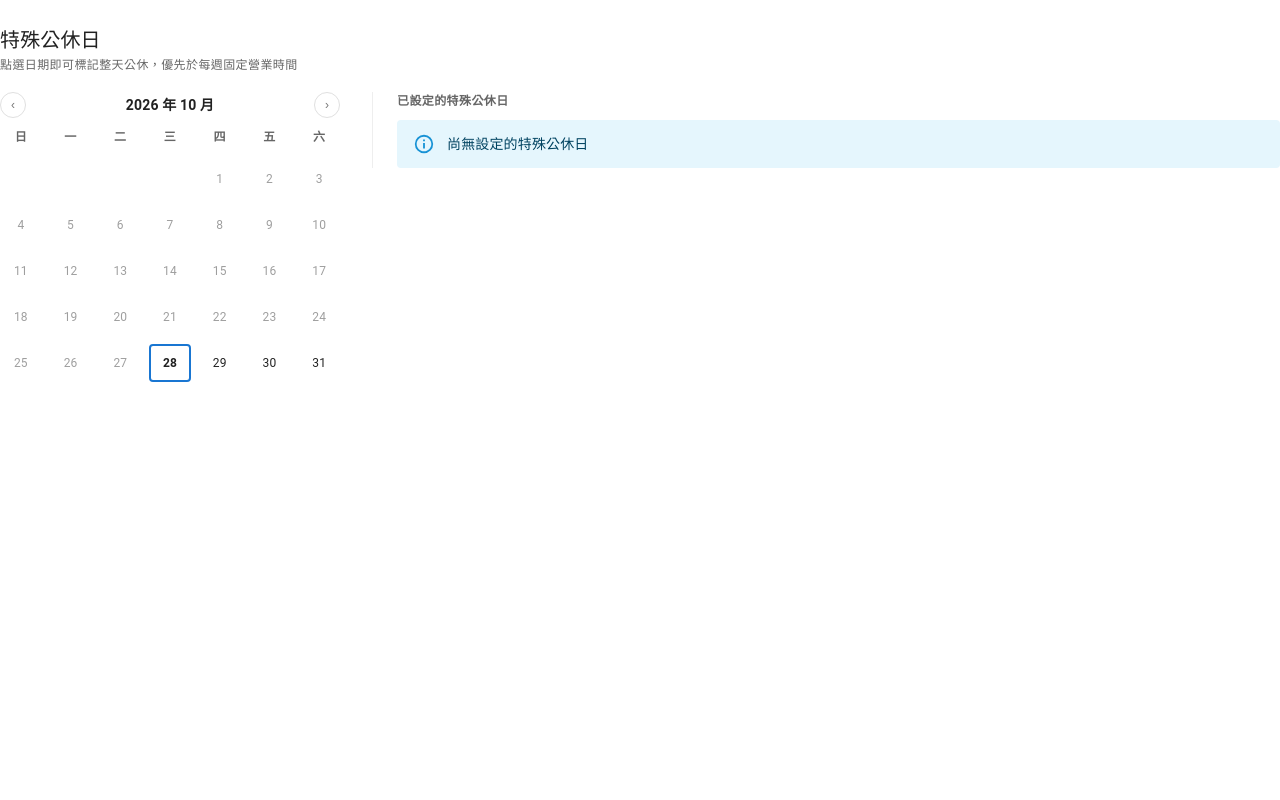
ClosedDatesSection › 點選有受影響預約的日期顯示警告，確認後才新增；取消不寫入
Check: the text "尚無設定的特殊公休日" is shown, box 447,136 -> 588,152
Click the button named "下個月" at (327,105), box 314,92 -> 340,118
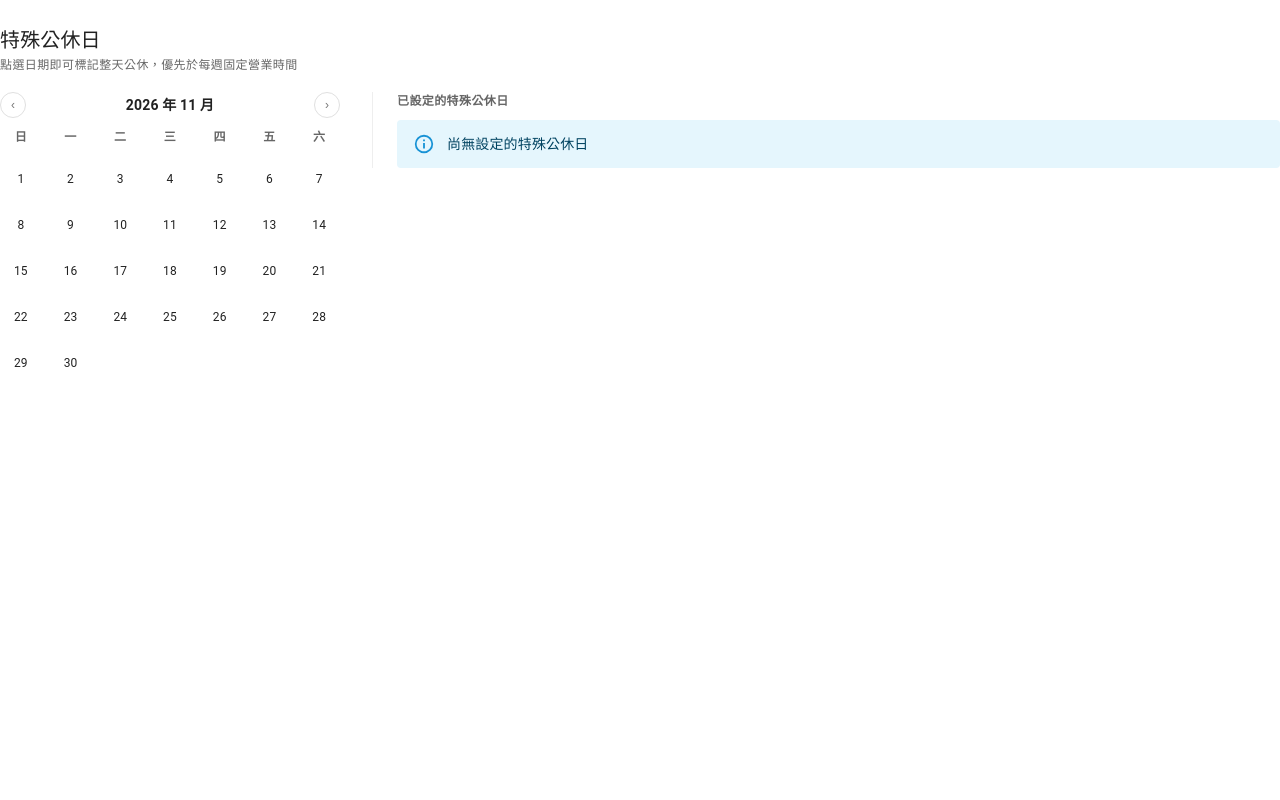
Click the button "20" at (269,271), box 249,252 -> 290,290
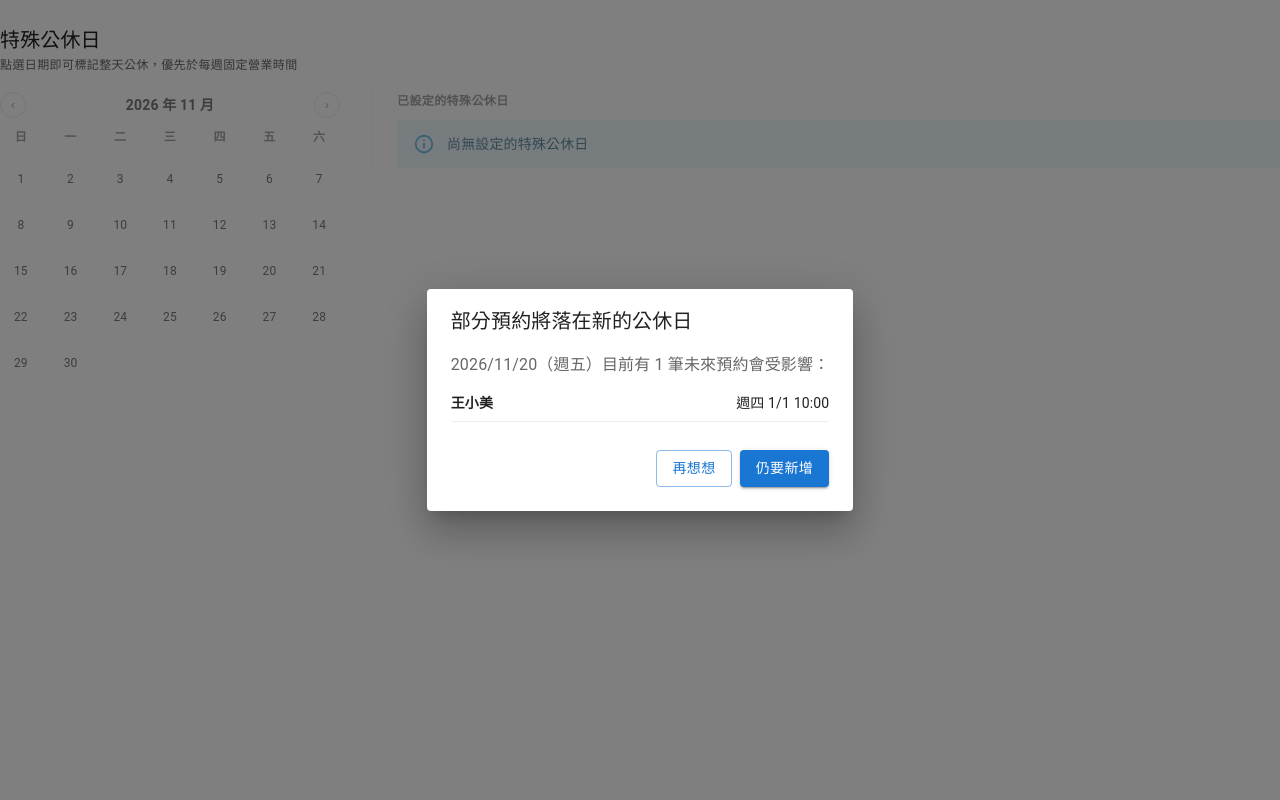
Check: the heading "部分預約將落在新的公休日" is shown, box 451,309 -> 692,333
Check: the text "王小美" is shown, box 451,393 -> 493,413
Click the button "仍要新增" at (784,469), box 740,450 -> 829,487
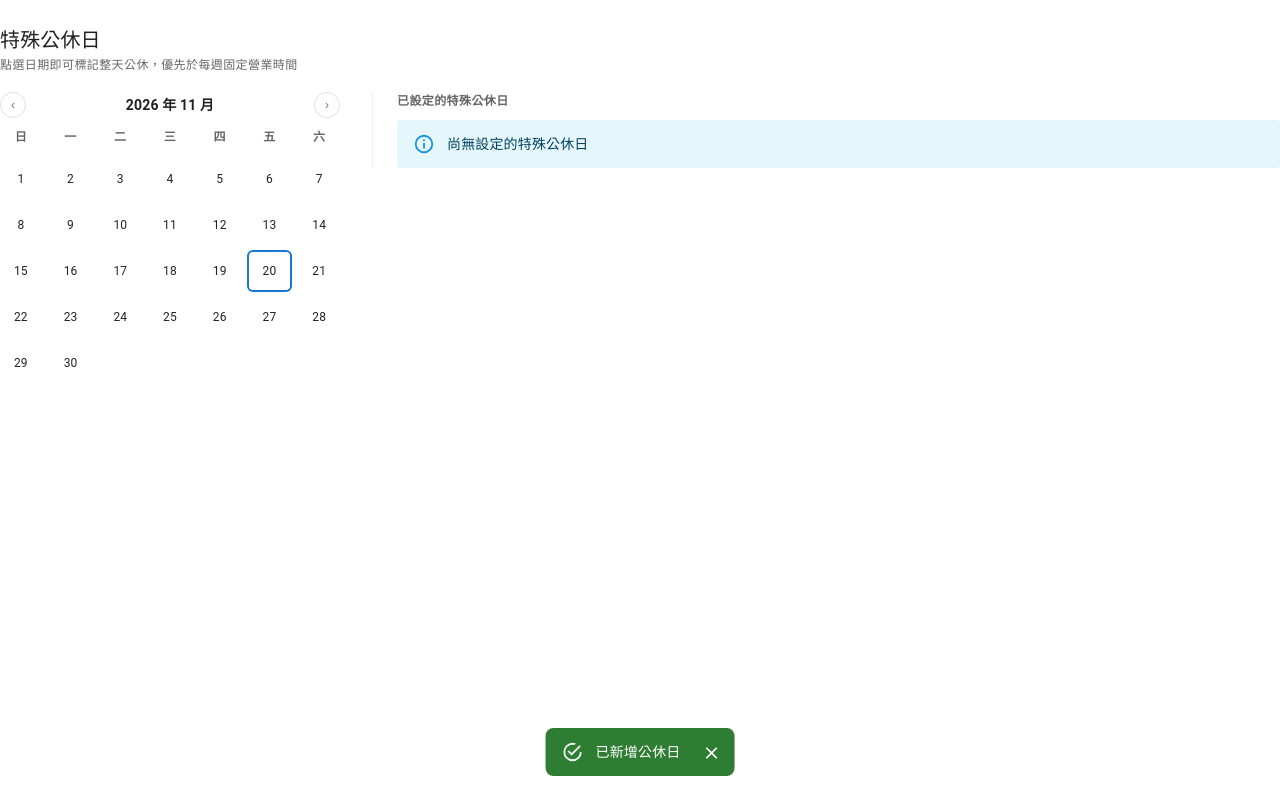
Check: the heading "部分預約將落在新的公休日" is gone
